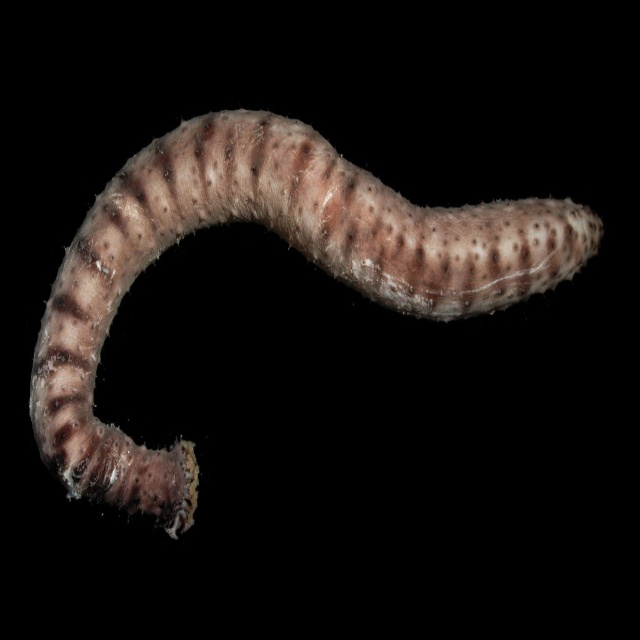Caterpillar: (28, 107, 602, 537)
